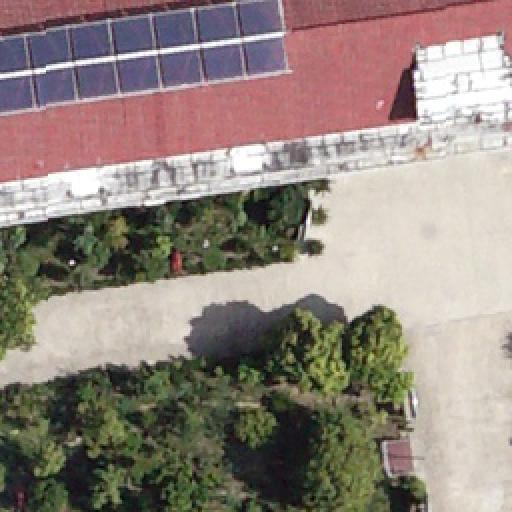solar-panel: (0, 0, 315, 109)
